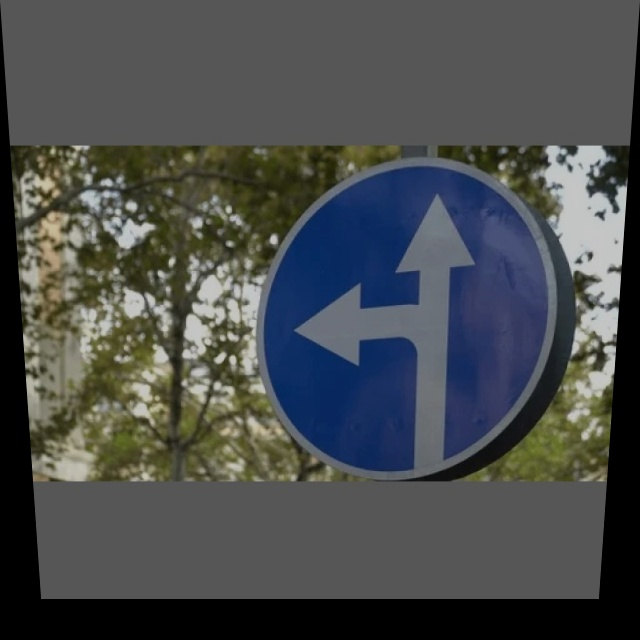Compulsory_Ahead_or_Turn_Left: (256, 159, 584, 472)
